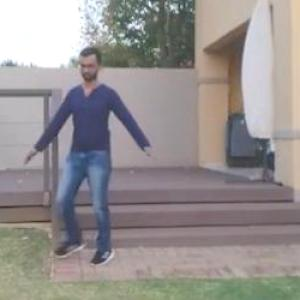land: (32, 62, 160, 272)
